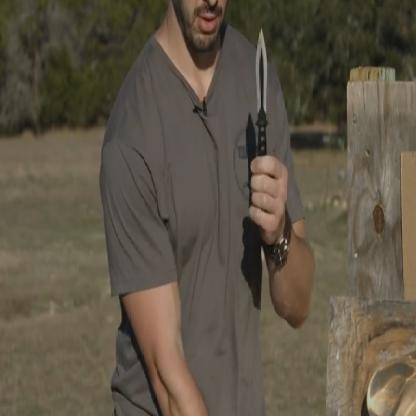knife: (244, 16, 288, 232)
